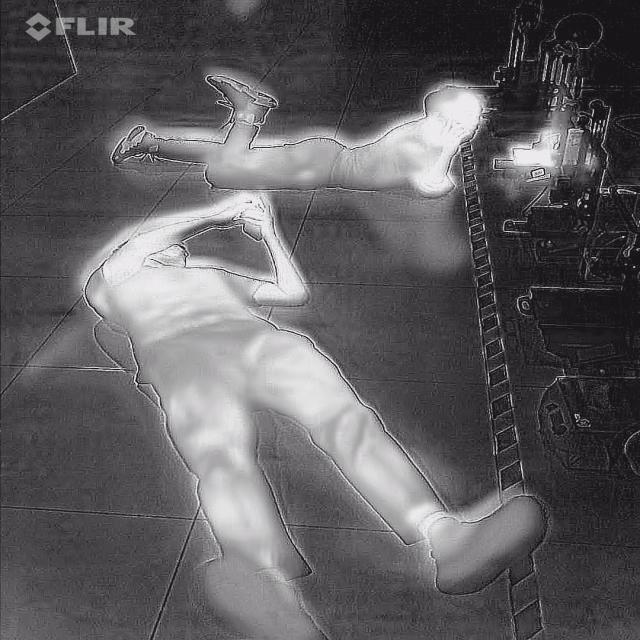Victim: (80, 190, 553, 638), (103, 70, 487, 198)
